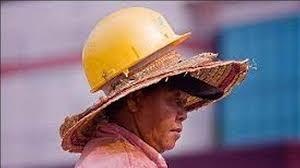helmet: (80, 5, 196, 97)
